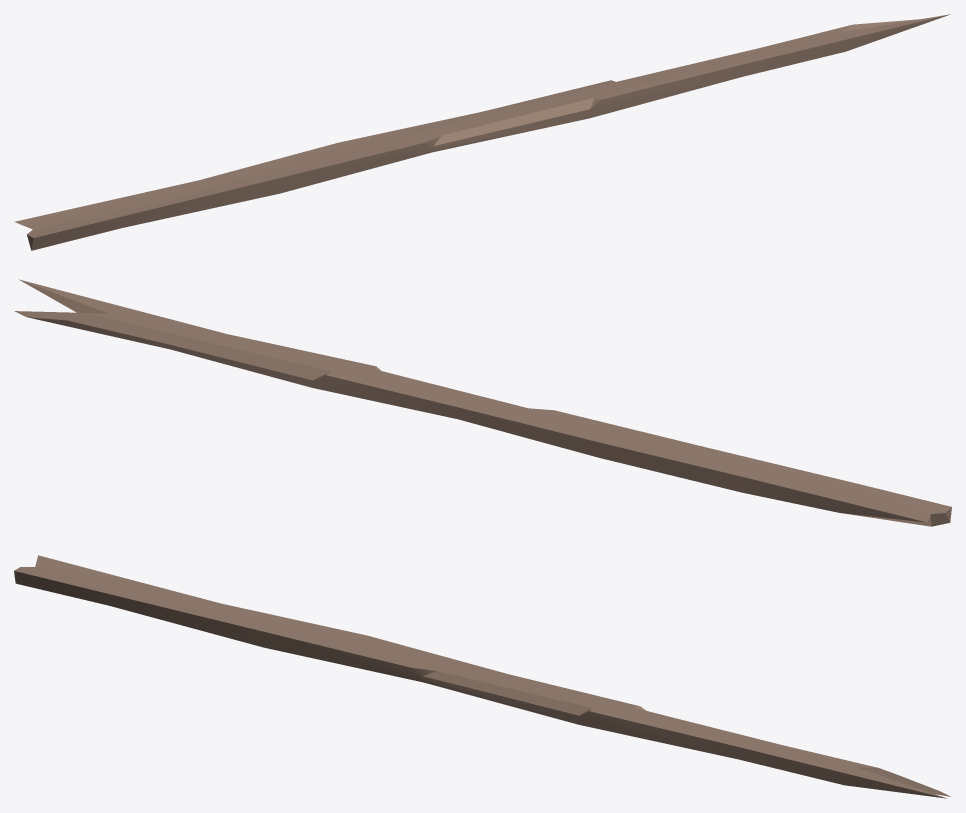
The model's file is SM_Blockout_Ruins_Timber_02.fbx.
The picture shows the model from 3 angles, top to bottom: view 1: azimuth 30°, elevation 25°; view 2: azimuth 150°, elevation 25°; view 3: azimuth 330°, elevation 25°; orthographic projection.
Visible parts, largest first — view 1: Cube.005; view 2: Cube.005; view 3: Cube.005.
Boxes of the visible parts, <box> form: Cube.005: <box>14,14,950,250</box>; Cube.005: <box>14,279,951,526</box>; Cube.005: <box>14,555,950,798</box>.
Size of the model in its own units: 753 by 12.8 by 31.17.
